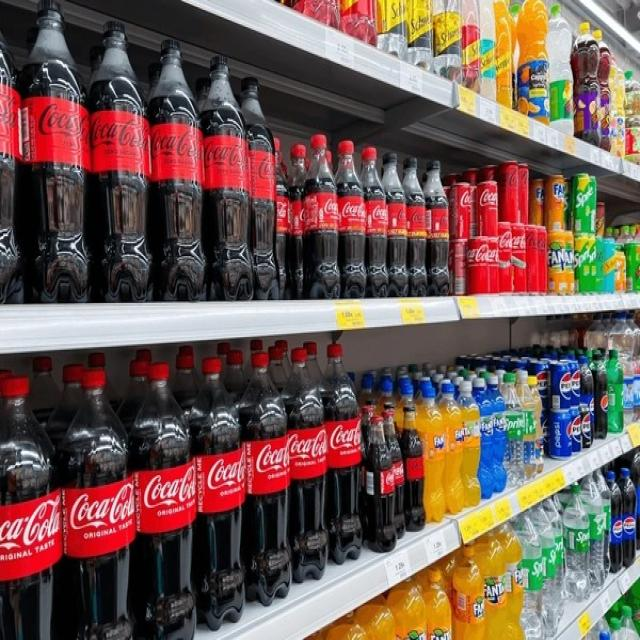coca cola: (72, 488, 141, 539), (26, 100, 91, 148), (469, 238, 504, 268)
